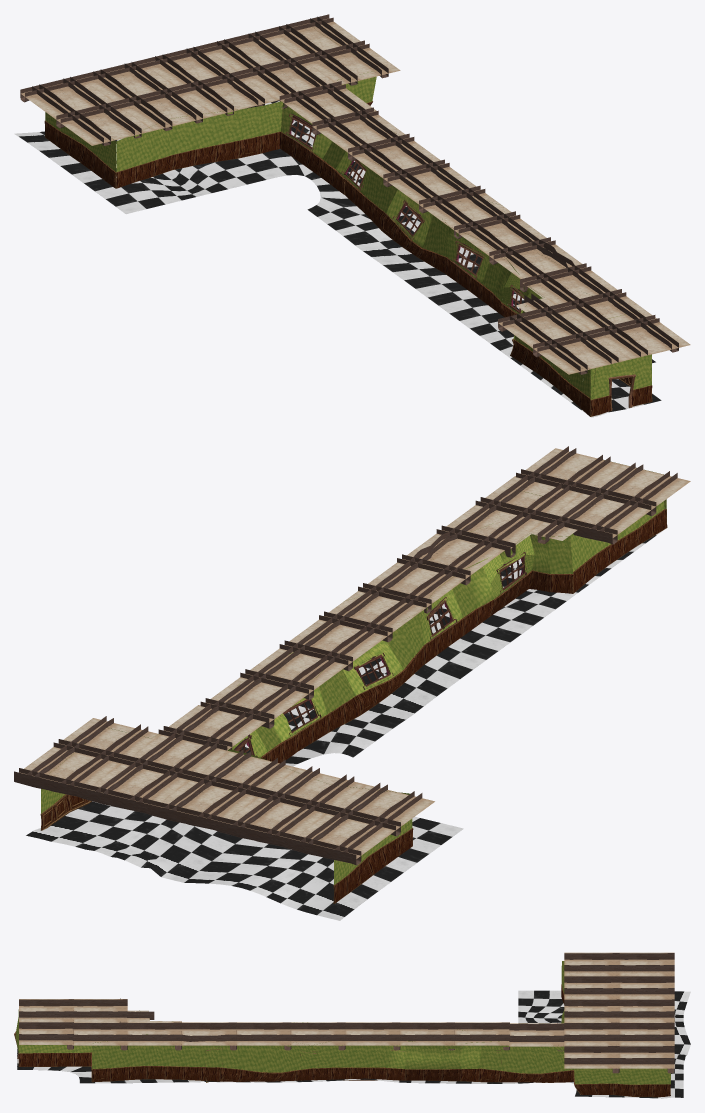
File: Hallway_all.fbx
The picture shows the model from 3 angles, top to bottom: view 1: azimuth 30°, elevation 25°; view 2: azimuth 150°, elevation 25°; view 3: azimuth 270°, elevation 25°; orthographic projection. The views are drawn at different scales.
Visible parts, largest first — view 1: main; view 2: main; view 3: main.
Part boxes in pixels (x1,y1,x2,y2): main: (14, 14, 690, 417); main: (14, 446, 690, 920); main: (14, 952, 690, 1098).
Size of the model in its own units: 3452 by 607 by 8496.
